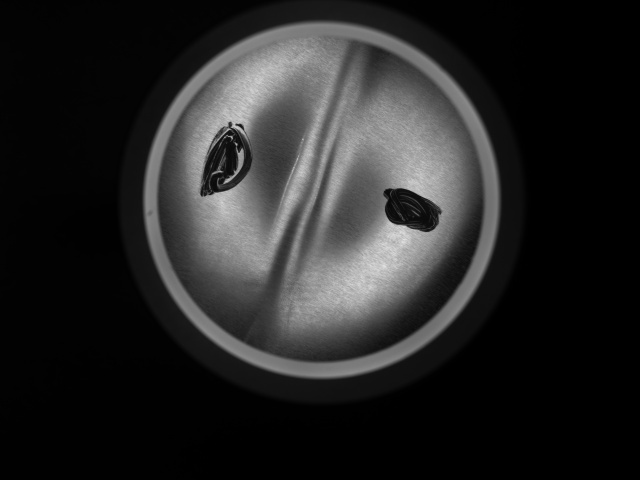zang_wu: (196, 120, 258, 198), (380, 184, 444, 233)
zhe_zhou: (199, 68, 444, 332)
